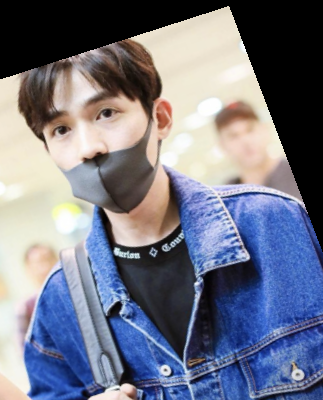mask_weared_incorrect: (12, 46, 194, 215)
